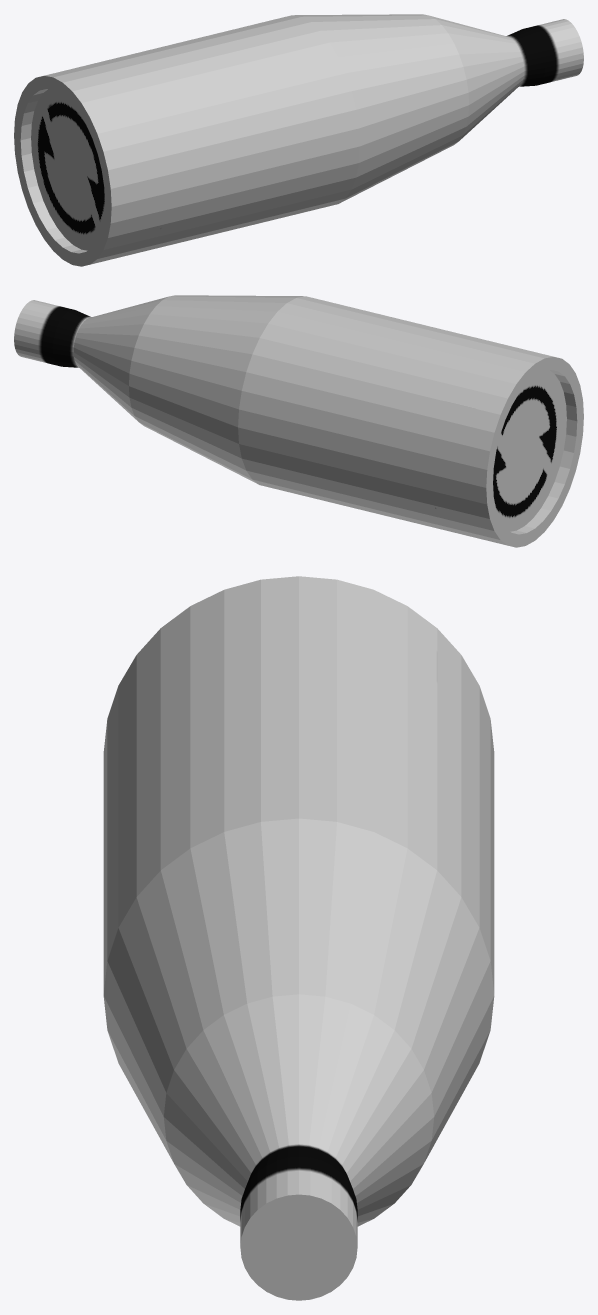
File: Rolling bottle.glb
The picture shows the model from 3 angles, top to bottom: view 1: azimuth 30°, elevation 25°; view 2: azimuth 150°, elevation 25°; view 3: azimuth 270°, elevation 25°; orthographic projection. The views are drawn at different scales.
Parts seen in each view (by area): view 1: Cylinder.002; view 2: Cylinder.002; view 3: Cylinder.002.
Boxes of the visible parts, left/top/right/bottom form: Cylinder.002: left=14, top=14, right=583, bottom=266; Cylinder.002: left=14, top=295, right=583, bottom=547; Cylinder.002: left=103, top=576, right=494, bottom=1300.
Size of the model in its own units: 11.31 by 3.78 by 3.78.
1 material, 1 textured.
